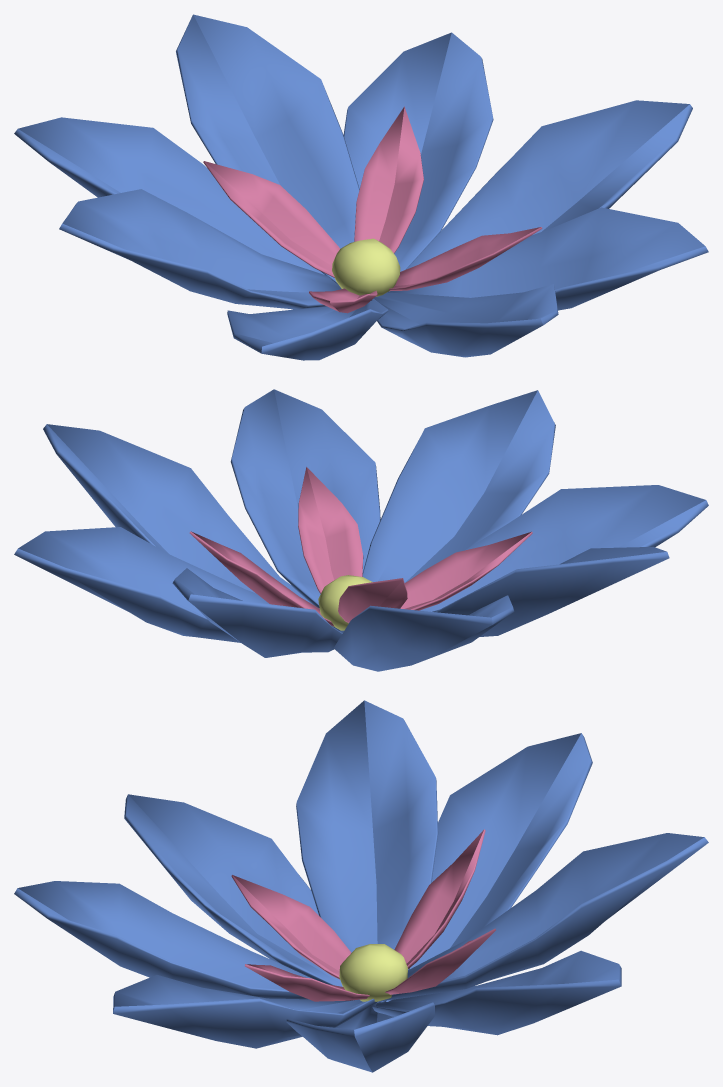
The model's file is Flower_001.fbx.
3 renders of one model, top to bottom at view 1: azimuth 30°, elevation 25°; view 2: azimuth 150°, elevation 25°; view 3: azimuth 270°, elevation 25°, orthographic.
Parts seen in each view (by area): view 1: Flor1; view 2: Flor1; view 3: Flor1.
Part boxes in pixels (bbox=[...]): Flor1: bbox=[14, 14, 708, 360]; Flor1: bbox=[14, 389, 708, 671]; Flor1: bbox=[14, 700, 708, 1072].
Bounding box in the file's own units: 220 × 57.75 × 213.
